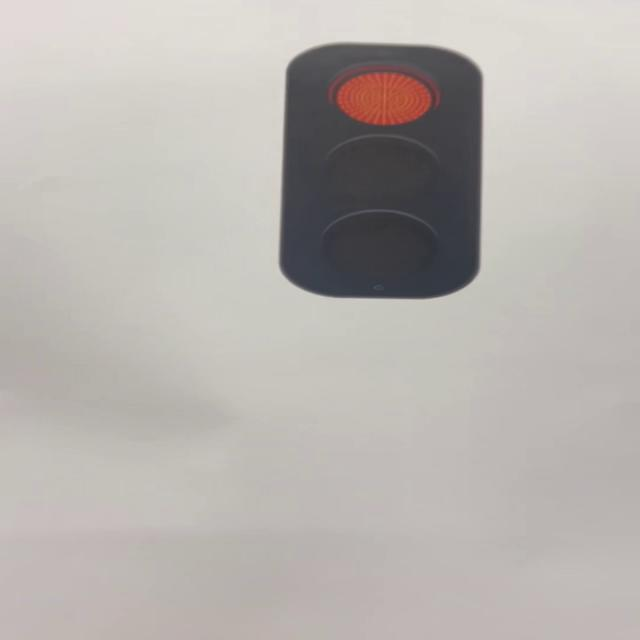red: (281, 41, 483, 300)
